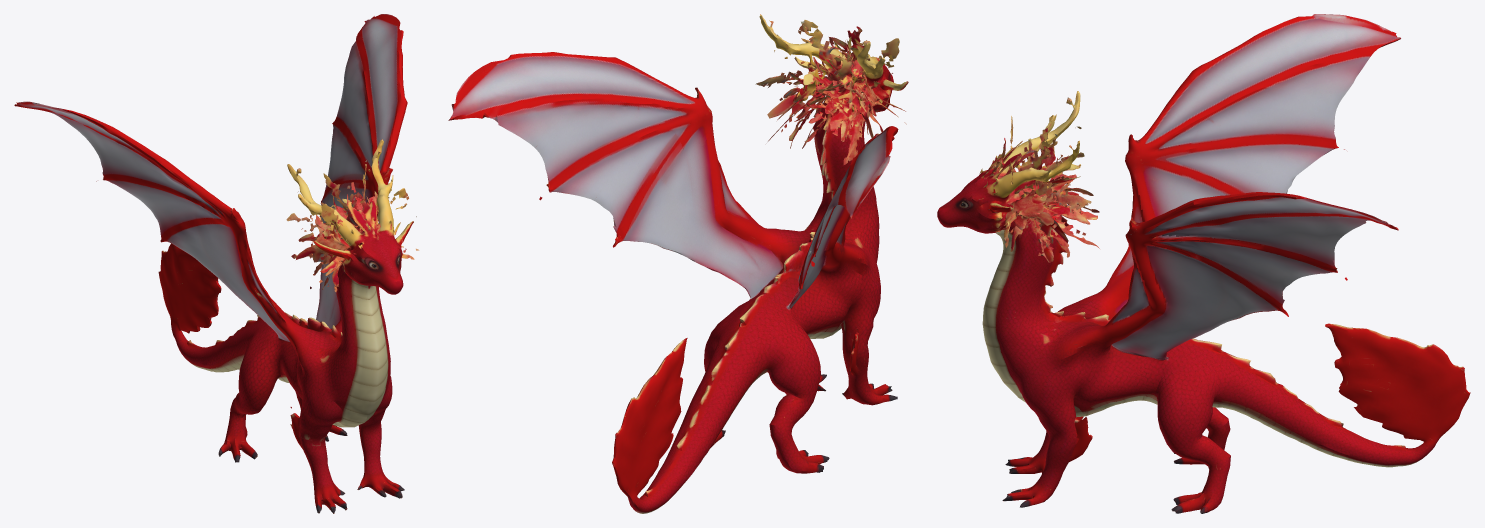
Rendered from sky_beyonder.glb.
3 views of the same model, side by side, from view 1: azimuth 30°, elevation 25°; view 2: azimuth 150°, elevation 25°; view 3: azimuth 270°, elevation 25° (orthographic). The views are drawn at different scales.
Size of the model in its own units: 1.64 by 1.49 by 1.9.
Materials: 1 (1 with a texture image).
